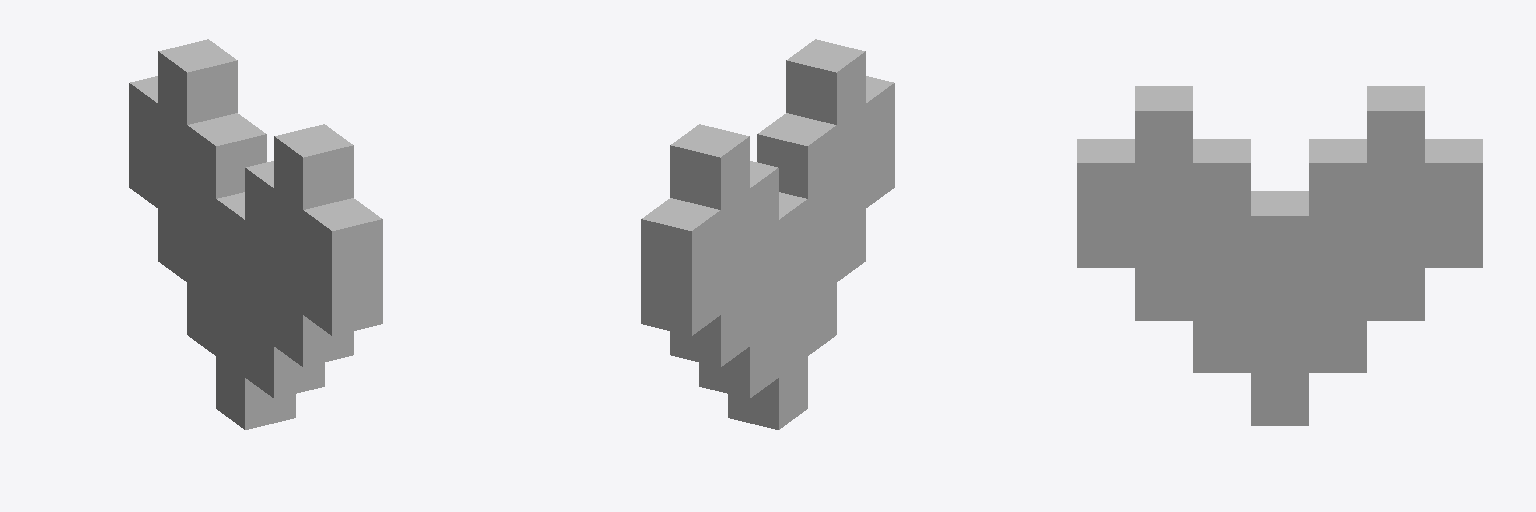
The model's file is Package 01 Necro Dungeon-39.obj.
The picture shows the model from 3 angles: view 1: azimuth 30°, elevation 25°; view 2: azimuth 150°, elevation 25°; view 3: azimuth 270°, elevation 25°; orthographic projection.
Parts seen in each view (by area): view 1: object 1; view 2: object 1; view 3: object 1.
Boxes of the visible parts, x1,y1,x2,y2 form: object 1: [129, 39, 382, 429]; object 1: [641, 39, 894, 429]; object 1: [1077, 86, 1482, 425].
Size of the model in its own units: 0.1 by 0.6 by 0.7.